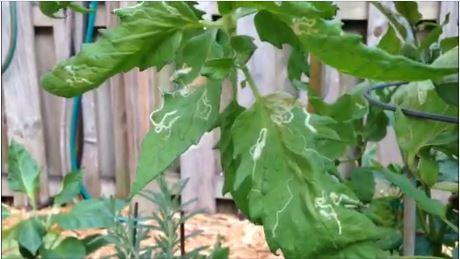Leaf_Miner: (228, 93, 394, 259), (125, 81, 220, 202)
